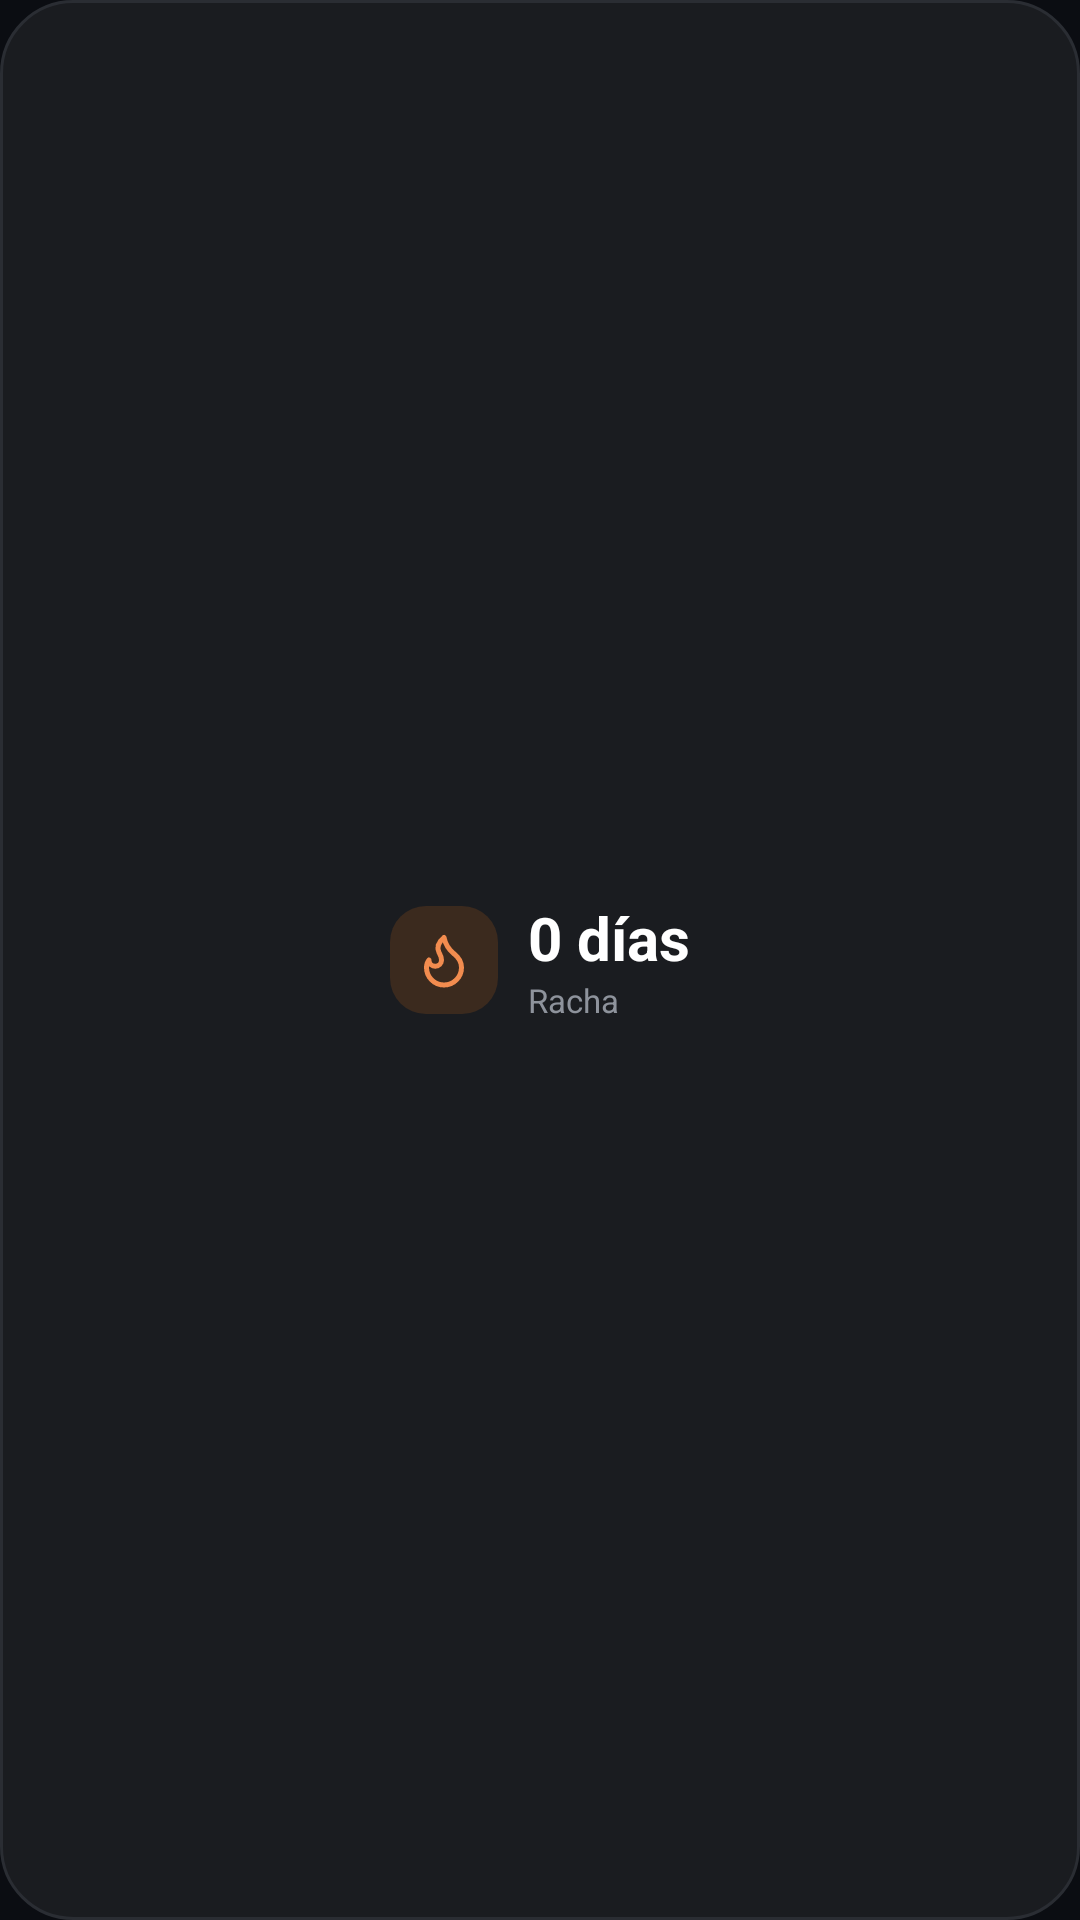

Icons on this 1080w x 1920h Android screen, each with its box as (x1, y1, x2, y2):
widget flame: (424, 935, 464, 988)
